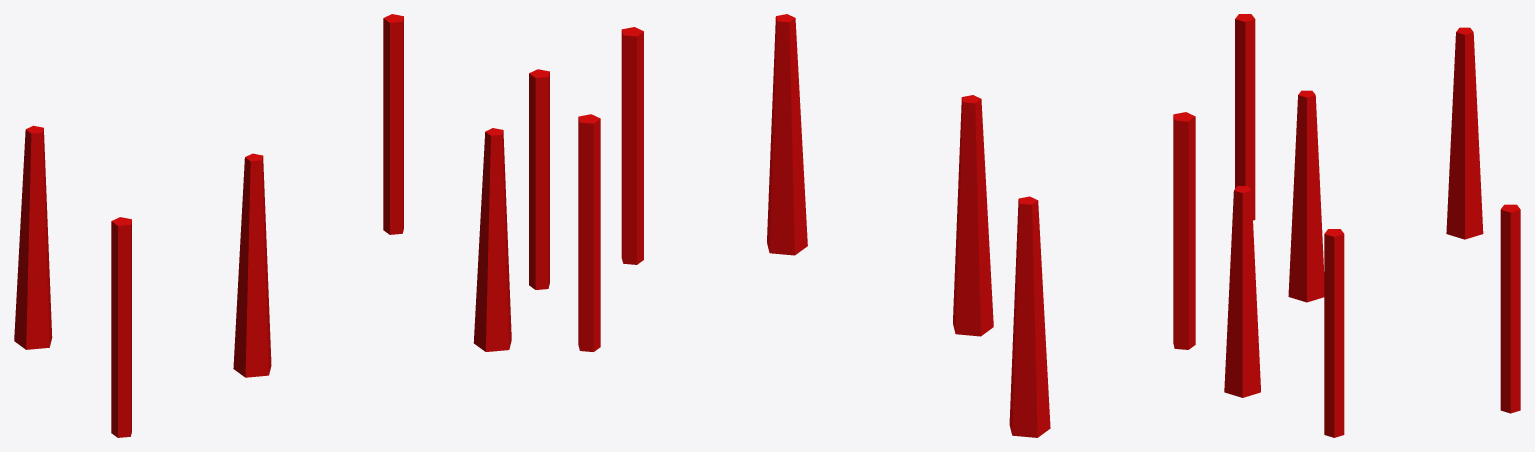
Rendered from SM_Env_Tree_Cluster_03_Collision.fbx.
The picture shows the model from 3 angles, left to right: view 1: azimuth 30°, elevation 25°; view 2: azimuth 150°, elevation 25°; view 3: azimuth 270°, elevation 25°; orthographic projection. The views are drawn at different scales.
Visible parts, largest first — view 1: SM_Env_Tree_Cluster_03_Collision; view 2: SM_Env_Tree_Cluster_03_Collision; view 3: SM_Env_Tree_Cluster_03_Collision.
Part boxes in pixels (x1,y1,x2,y2): SM_Env_Tree_Cluster_03_Collision: [14, 14, 549, 437]; SM_Env_Tree_Cluster_03_Collision: [578, 14, 1195, 437]; SM_Env_Tree_Cluster_03_Collision: [1224, 14, 1520, 437].
Size of the model in its own units: 1295 by 544 by 727.
